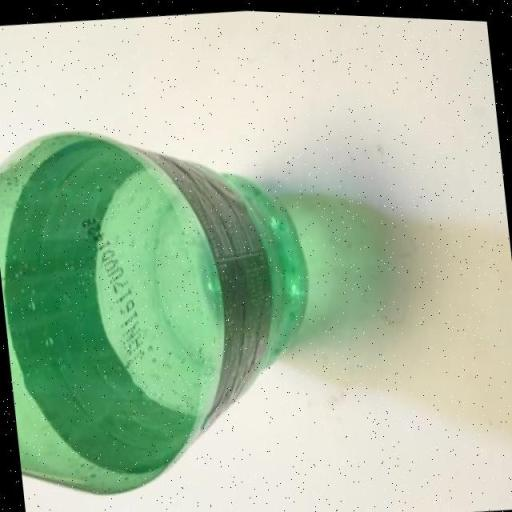plastic: (0, 100, 330, 509)
